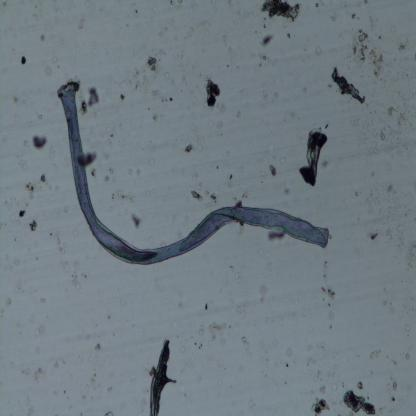Background material: (300, 126, 330, 186), (352, 35, 386, 76), (332, 69, 366, 104), (343, 382, 377, 416), (256, 0, 302, 25), (401, 228, 416, 276), (204, 75, 224, 110), (49, 221, 66, 257), (64, 271, 84, 296), (266, 226, 286, 249), (208, 318, 223, 346), (112, 187, 135, 203), (228, 296, 248, 314), (258, 30, 276, 50), (30, 130, 49, 148), (32, 363, 50, 382), (29, 320, 50, 336), (145, 51, 160, 72), (126, 209, 142, 228), (23, 180, 36, 201), (87, 86, 99, 108), (188, 171, 204, 187), (313, 399, 330, 414), (104, 162, 115, 184), (321, 283, 336, 298), (366, 347, 382, 361), (86, 150, 96, 171), (257, 284, 268, 303), (303, 357, 319, 370), (239, 332, 250, 350), (395, 38, 408, 53), (8, 255, 23, 268), (126, 78, 140, 91), (1, 294, 13, 309), (396, 109, 407, 125), (191, 188, 205, 200), (383, 182, 396, 194), (203, 299, 214, 313), (365, 230, 380, 240), (384, 104, 396, 116), (80, 96, 88, 114), (18, 205, 29, 218), (87, 372, 97, 385), (43, 64, 52, 78), (2, 201, 11, 215), (282, 185, 293, 196), (183, 142, 193, 154), (77, 17, 87, 29), (390, 380, 400, 392), (29, 219, 38, 232), (100, 408, 114, 416), (247, 399, 257, 410), (170, 0, 182, 9), (311, 46, 324, 54), (92, 340, 100, 353), (378, 128, 386, 141), (267, 168, 276, 179), (11, 93, 20, 104), (210, 192, 218, 204), (40, 171, 47, 184), (20, 53, 26, 68), (350, 10, 360, 19), (152, 112, 160, 122), (38, 294, 46, 304), (161, 26, 169, 35), (388, 394, 396, 403), (318, 386, 328, 392), (198, 328, 206, 335), (36, 111, 42, 120), (263, 55, 270, 62), (237, 366, 245, 372), (96, 5, 102, 12), (81, 394, 86, 402), (61, 386, 66, 394), (134, 70, 140, 76), (317, 378, 323, 384), (196, 343, 203, 348), (354, 190, 359, 197), (107, 313, 112, 320), (236, 113, 242, 118), (169, 96, 174, 102), (120, 94, 125, 100), (86, 1, 91, 7), (161, 99, 166, 105), (285, 363, 290, 368), (315, 2, 319, 8), (288, 32, 292, 38), (22, 98, 26, 104), (107, 386, 111, 392), (256, 62, 262, 66), (242, 193, 246, 198), (331, 17, 335, 21), (229, 175, 233, 179), (142, 76, 146, 80), (171, 81, 175, 85), (264, 24, 267, 29)
Cellulose filter fibre: (149, 338, 172, 416)
Microfibre: (55, 81, 330, 265)
